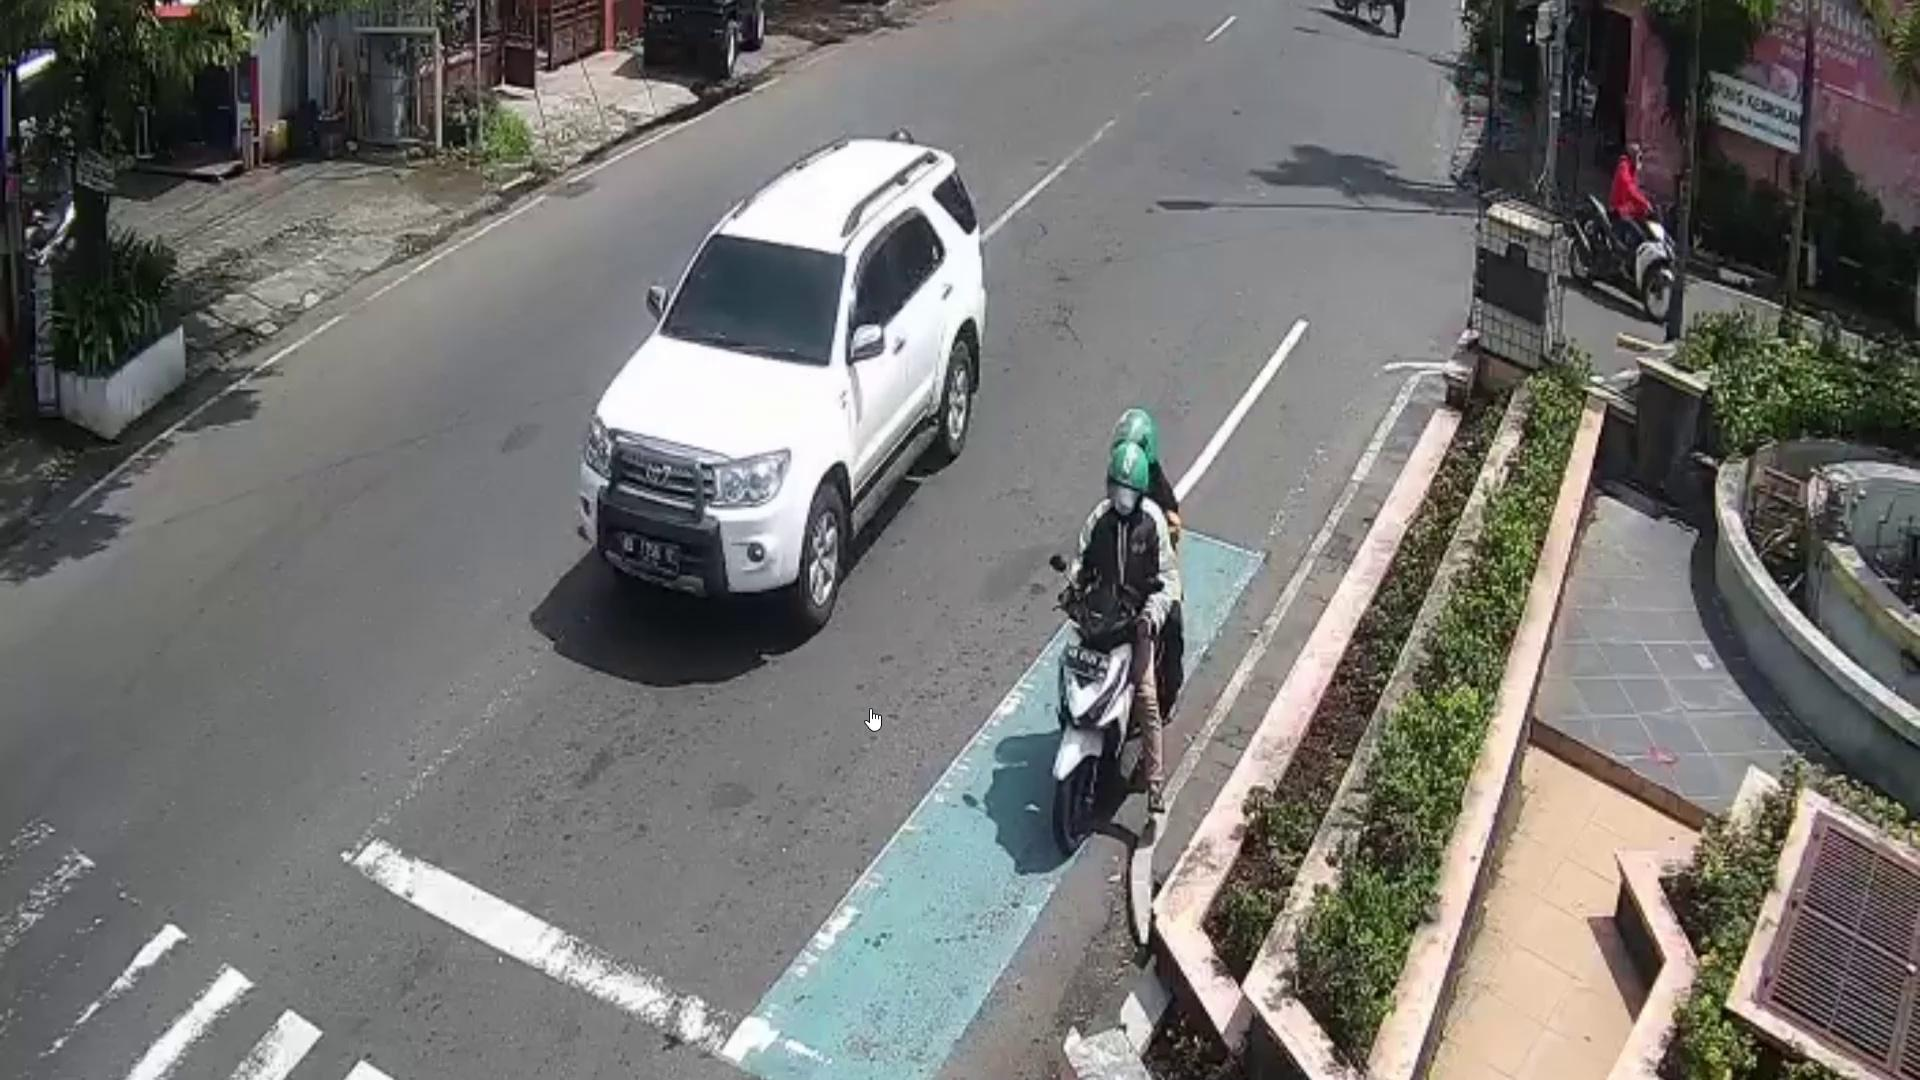car: (578, 135, 982, 632)
motorbike: (1055, 585, 1135, 853), (1563, 196, 1681, 309)
